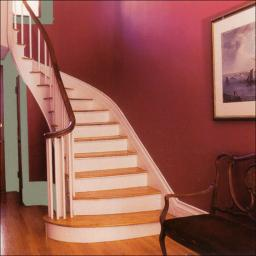Escaleras: (20, 49, 166, 237)
